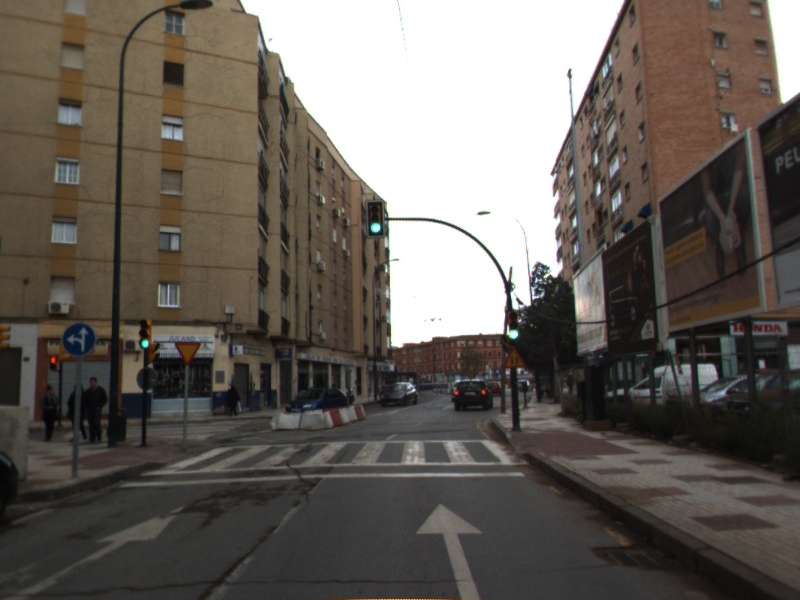STRAIGHT: (3, 501, 192, 600), (411, 498, 488, 600)
